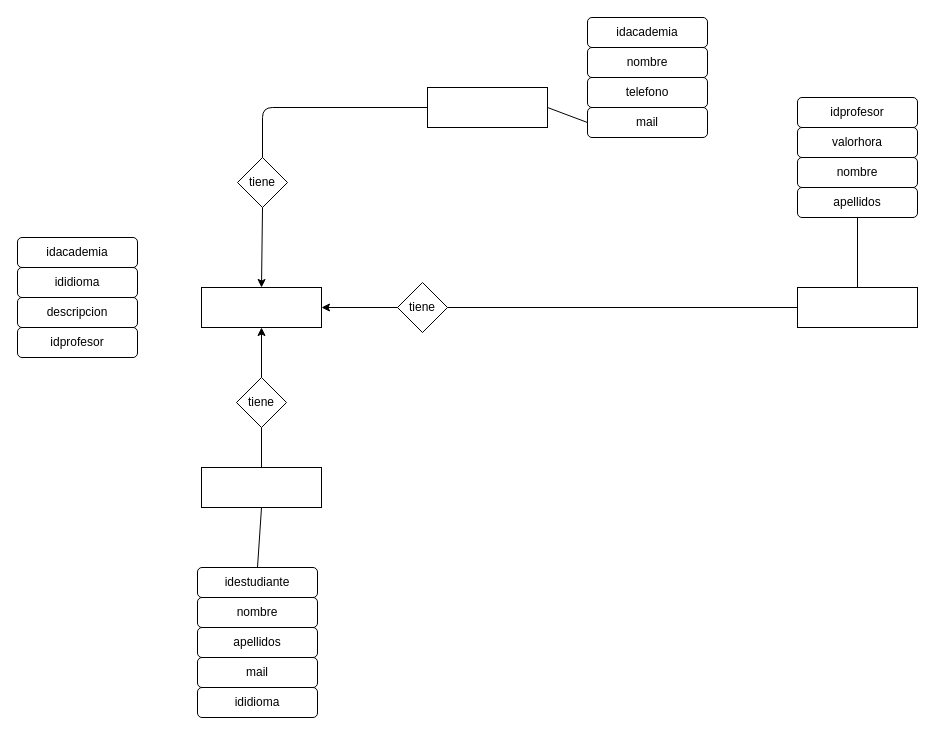
This 935x735 diagram has some shape labels left out. The shapes that lost their labels are listed below. From the top down, each one's centre as x and y in pixels, then its label:
At point 487,107: "Academia".
At point 261,307: "Idiomas".
At point 857,307: "Profesor".
At point 261,487: "Estudiantes".
